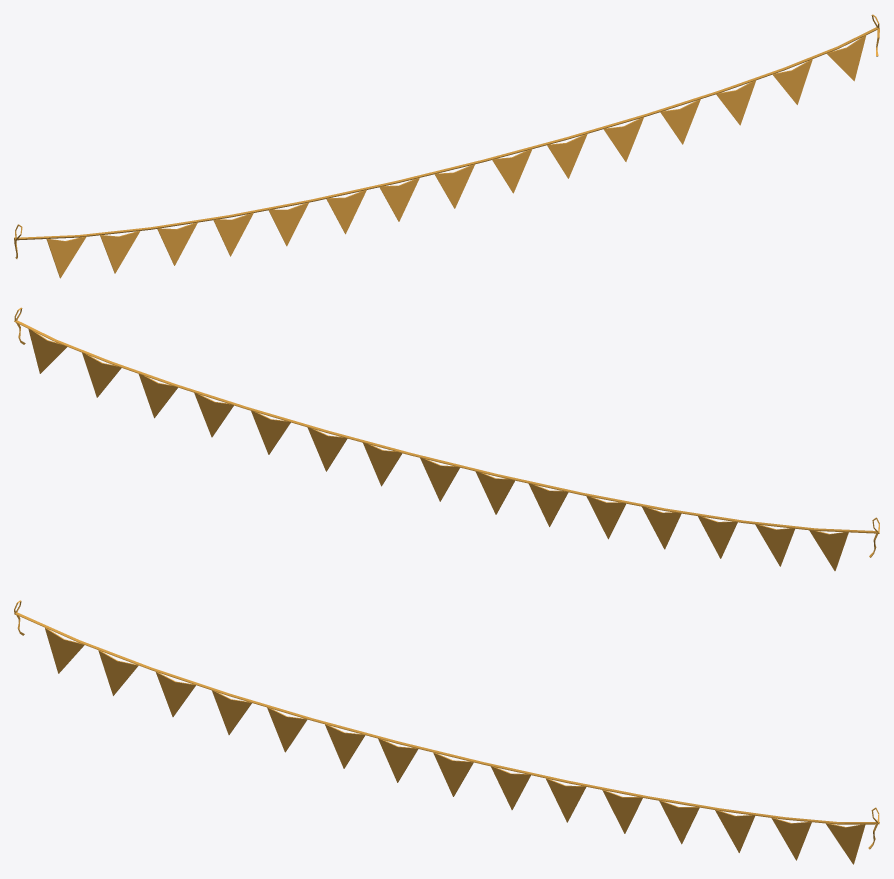
The model's file is string-of-flags-5m.fbx.
3 views of the same model, one above another, from view 1: azimuth 30°, elevation 25°; view 2: azimuth 150°, elevation 25°; view 3: azimuth 330°, elevation 25° (orthographic).
Parts seen in each view (by area): view 1: string-of-flags-5m; view 2: string-of-flags-5m; view 3: string-of-flags-5m.
Part boxes in pixels (x1=…): string-of-flags-5m: x1=14, y1=14, x2=879, y2=278; string-of-flags-5m: x1=14, y1=307, x2=879, y2=570; string-of-flags-5m: x1=14, y1=600, x2=879, y2=864.
Bounding box in the file's own units: 5 × 0.5009 × 0.0882.
